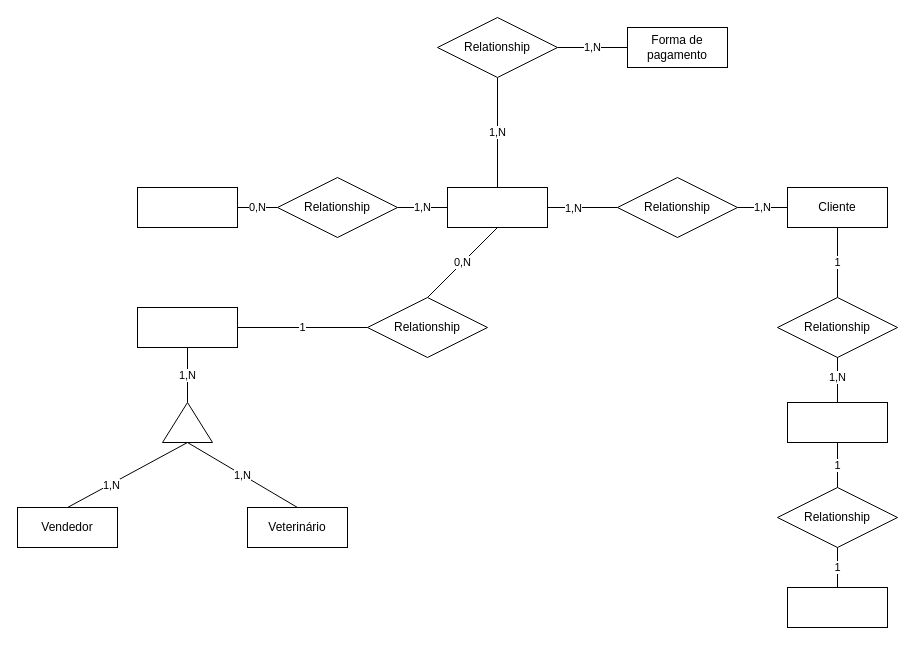
This 915x645 diagram has some shape labels left out. Each missing label, with the centre of its shape:
"Funcionarios" belongs at point (187, 327).
"Pet" belongs at point (837, 422).
"Produto" belongs at point (187, 207).
"Prontuario" belongs at point (837, 607).
"Venda" belongs at point (497, 207).
